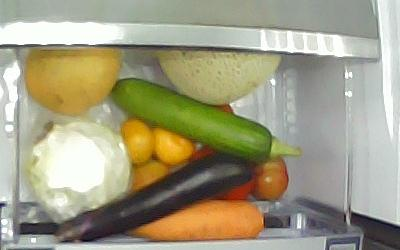cabbage: (25, 118, 130, 224)
carrot: (122, 197, 264, 239)
eggplant: (53, 151, 252, 243)
melon: (153, 47, 282, 105)
pear: (23, 46, 119, 114)
prune: (250, 154, 289, 200), (130, 160, 168, 191)
tangerine: (149, 126, 194, 166), (119, 117, 155, 166)
zucchini: (110, 76, 302, 162)
